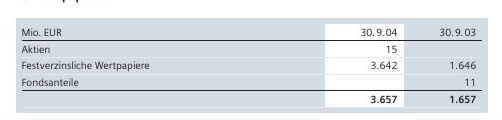table: (0, 0, 502, 120)
